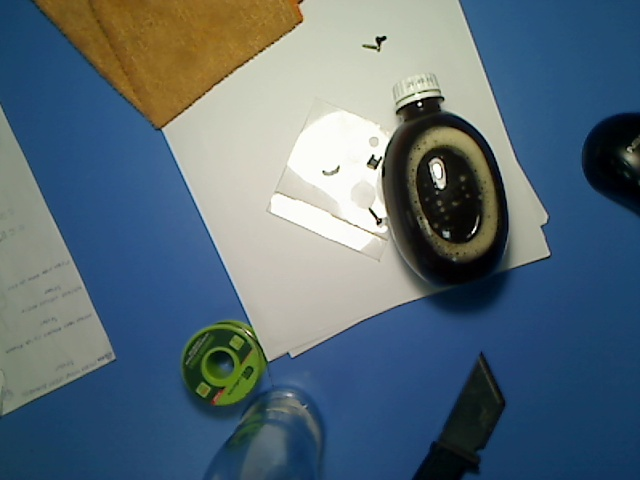plast_bottle: (373, 67, 514, 294)
